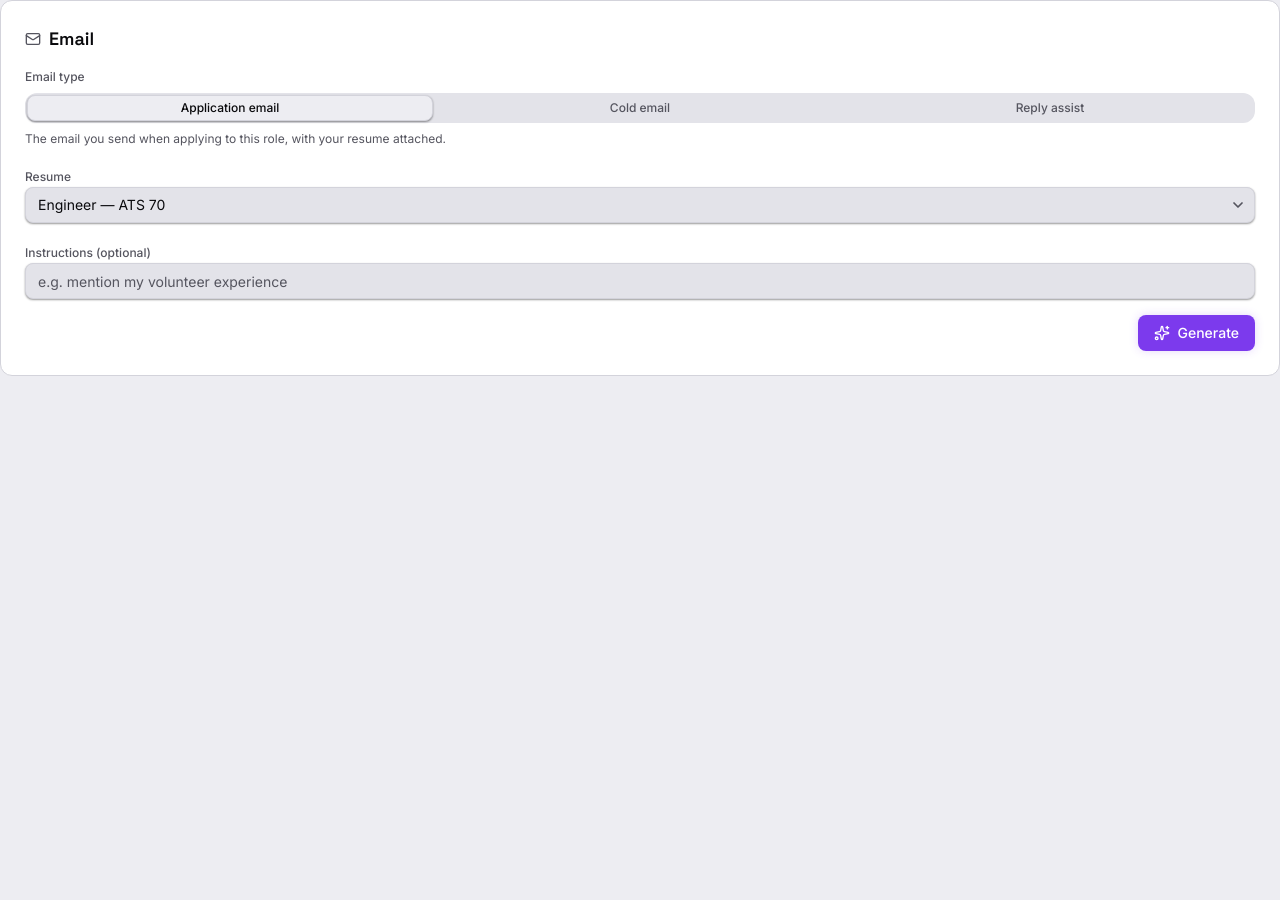
job email panel › shows the received-email field only in reply mode, with a counter
The image size is (1280, 900).
Expected: the field labelled "paste the email you received" is not shown
Click the button "Reply assist". click: click(1050, 108)
box: [847,95,1253,121]
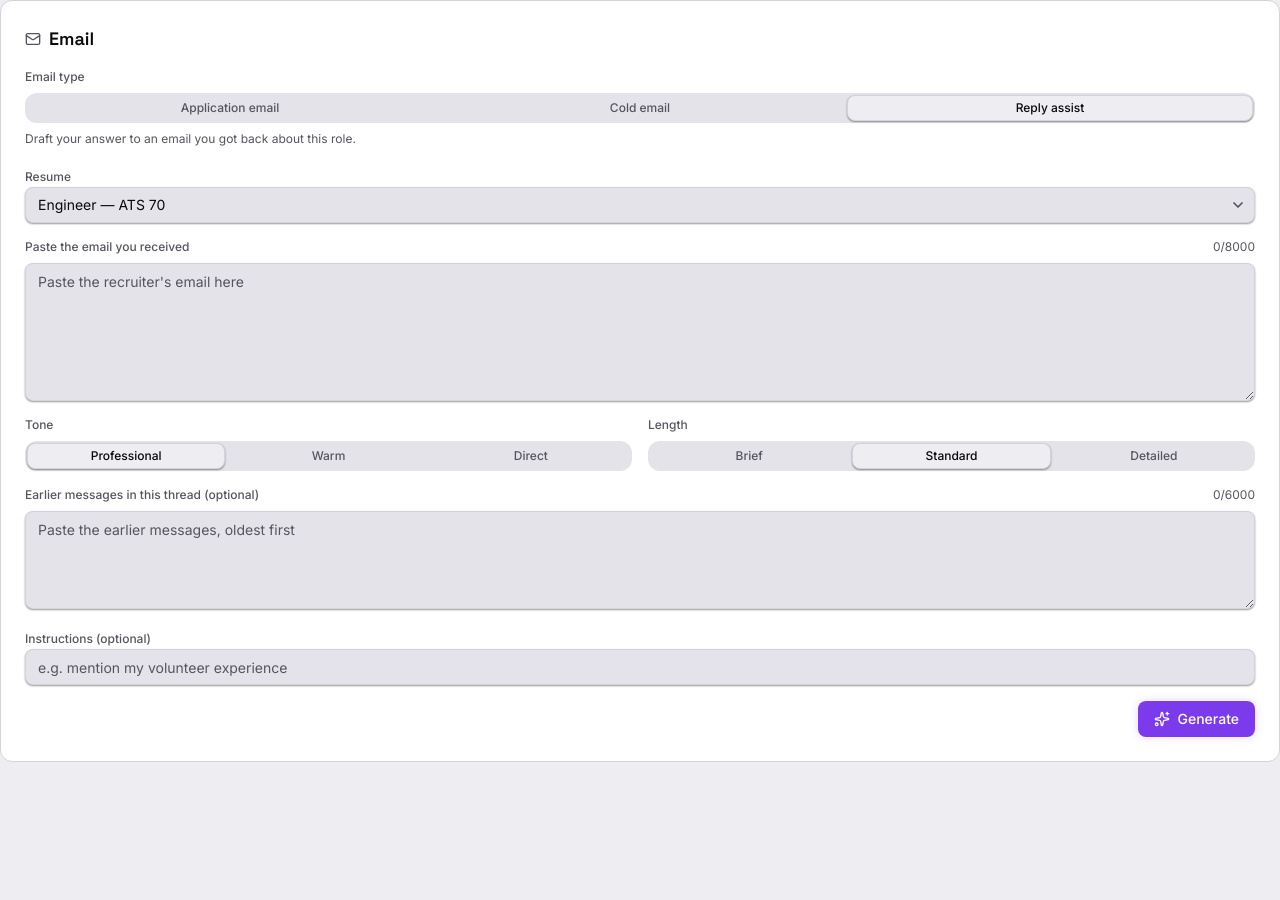
Now the text box labelled "Paste the email you received" is shown
Now the text "0/8000" is shown, box [1213,239,1255,255]
Type "Hi, are you free?" into the text box labelled "Paste the email you received". click: (640, 332)
box: [25,263,1255,401]
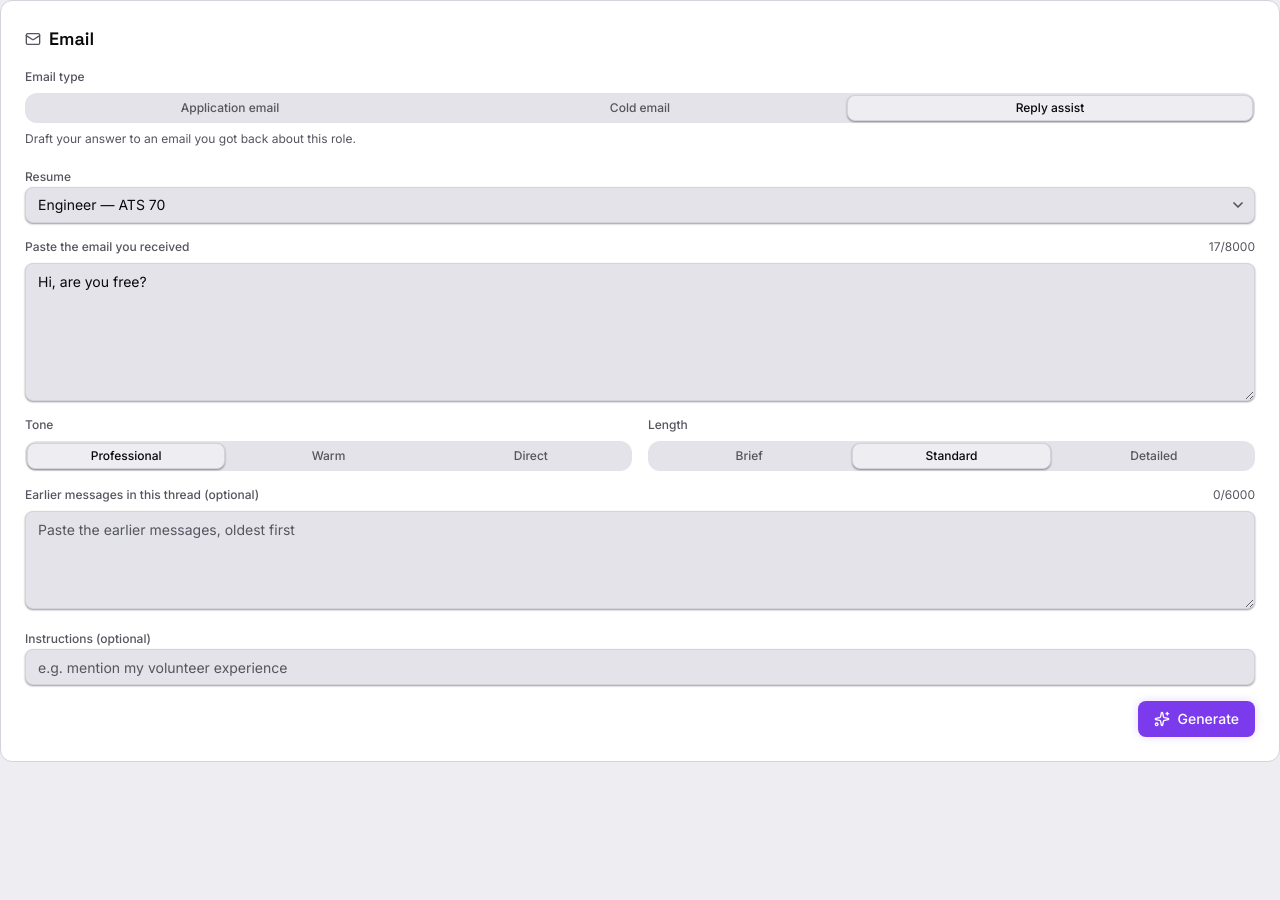
Now the text "17/8000" is shown, box [1209,239,1255,255]
